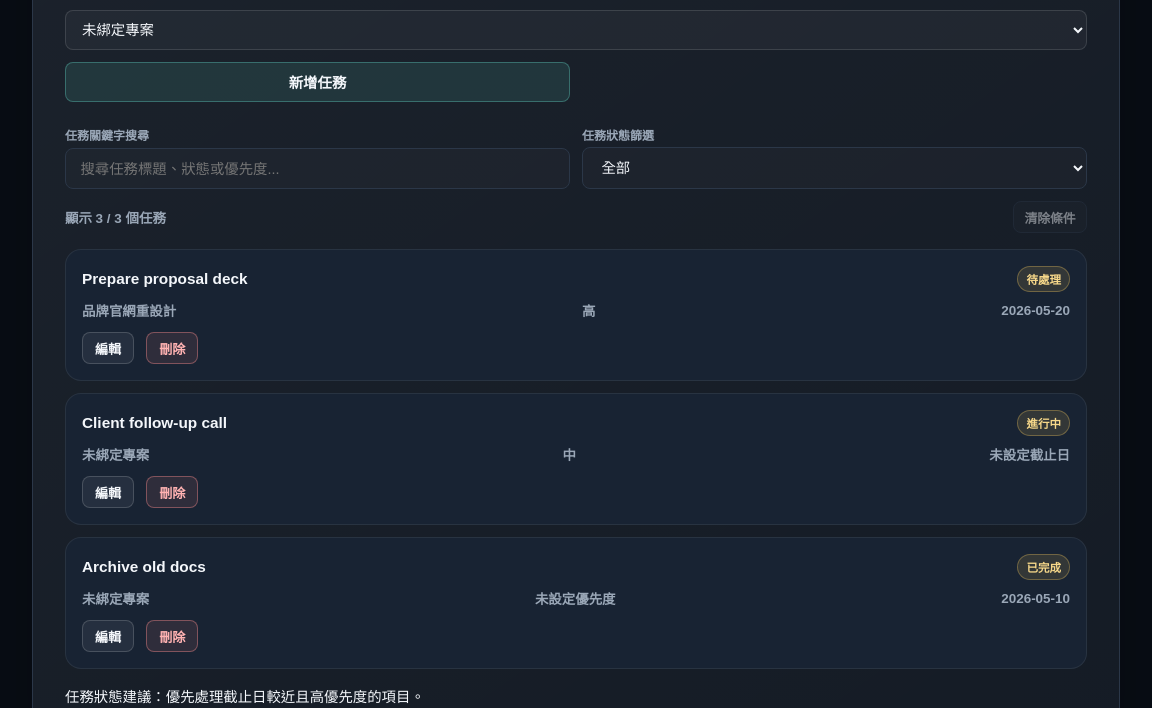
Test: TasksPage Supabase integration behaviors › updates the selected task only
(page scrolled)
Expected: the number of elements with test id "tasks-status-badge" is 3, [1018,266,1070,292]; [1018,410,1070,436]; [1018,554,1070,580]
Click the button with test id "tasks-edit-button" below "品牌官網重設計": {"x": 108, "y": 348} [82,332,134,364]
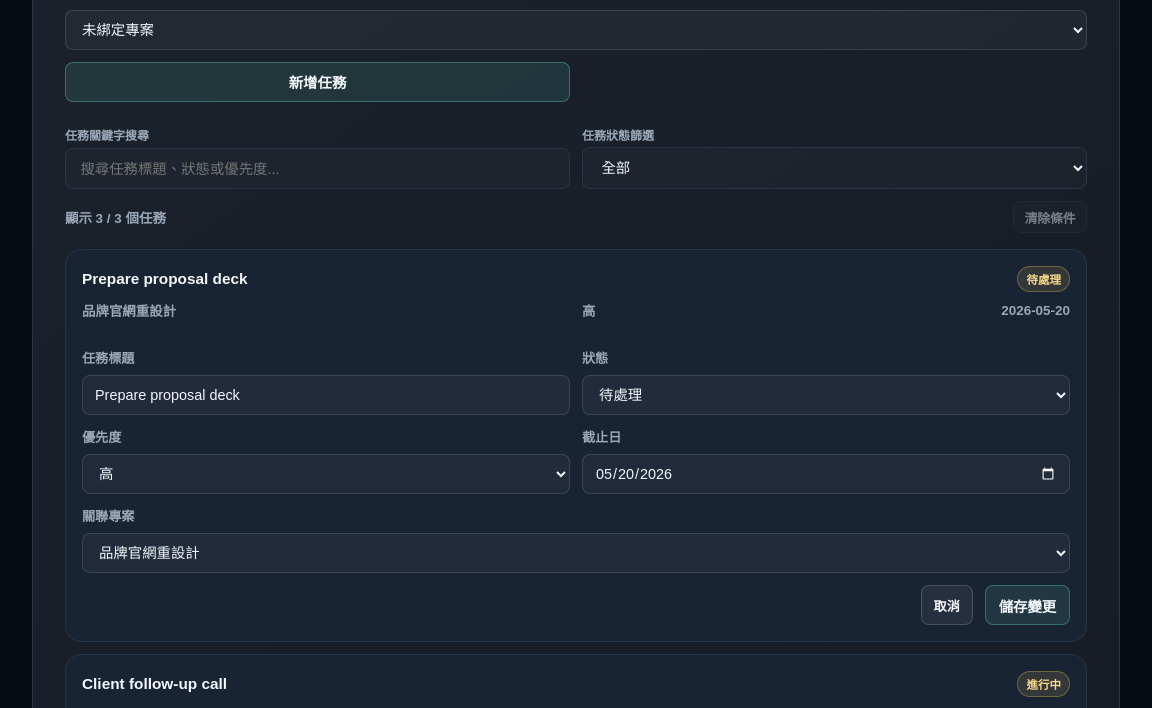
Now the field with id "tasks-edit-title-t-1" is shown
Replace the text in the field with id "tasks-edit-title-t-1" with "Prepare proposal deck v2": {"x": 326, "y": 395} [82,375,570,415]
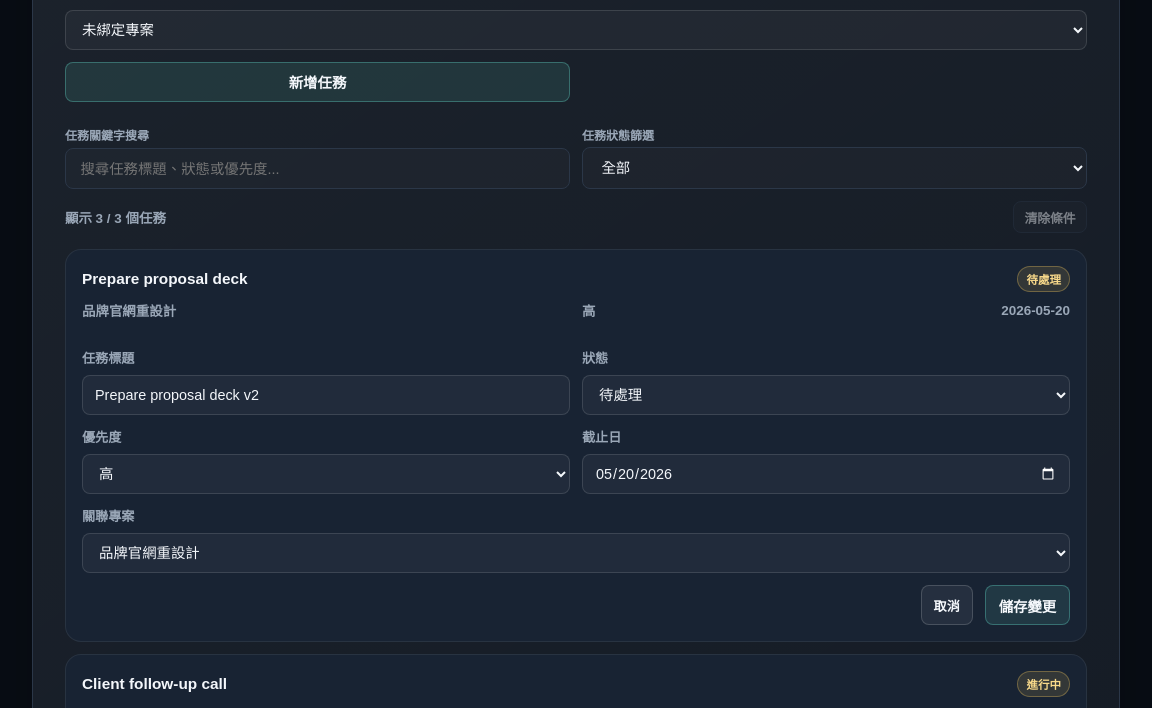
Now the dropdown with id "tasks-edit-status-t-1" is shown
Select "已完成" in the dropdown with id "tasks-edit-status-t-1": {"x": 826, "y": 395} [582,375,1070,415]
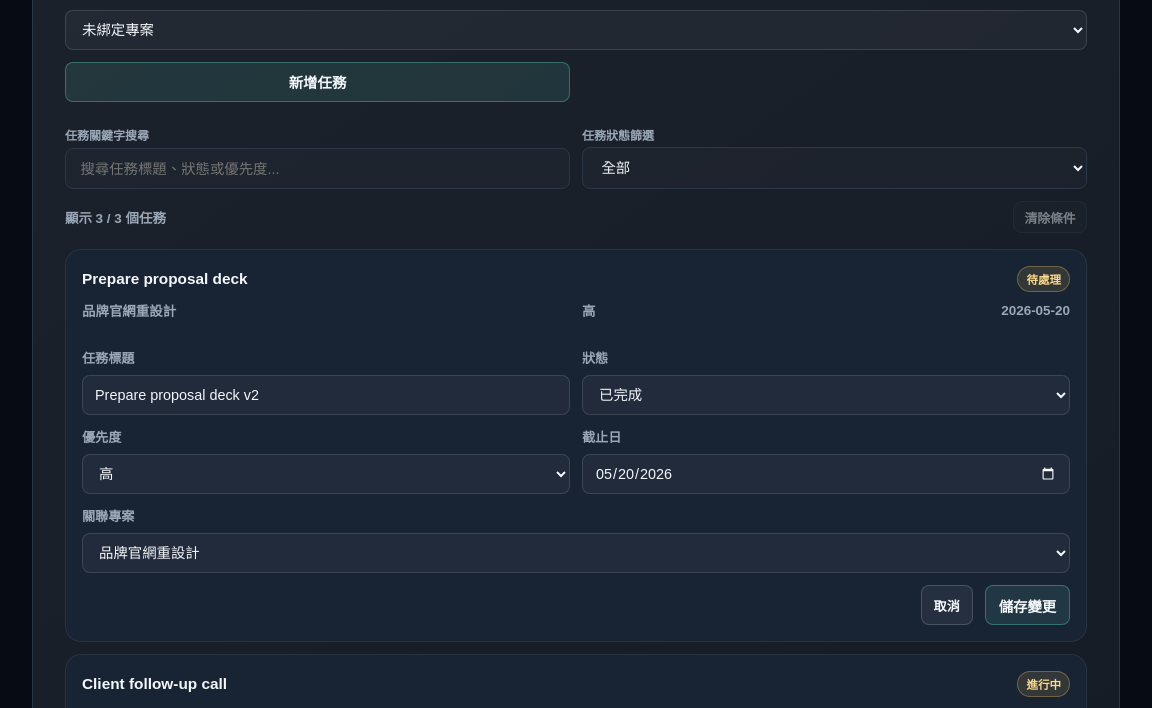
Now the dropdown with id "tasks-edit-priority-t-1" is shown
Select "緊急" in the dropdown with id "tasks-edit-priority-t-1": {"x": 326, "y": 474} [82,454,570,494]
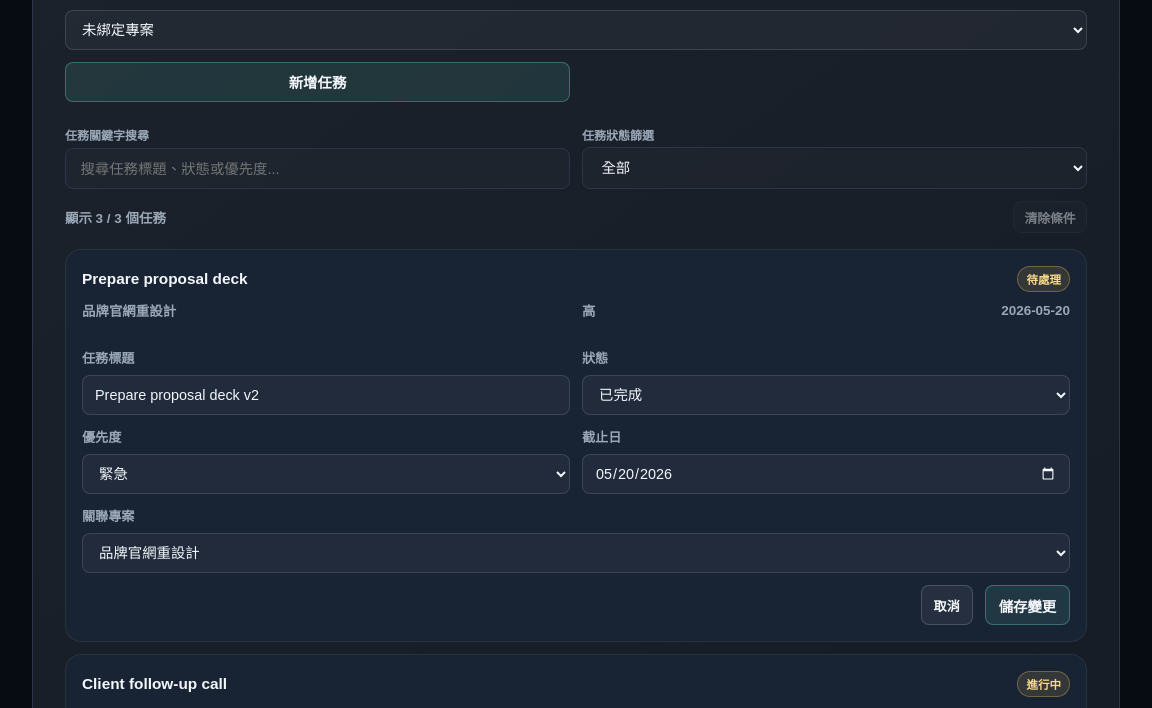
Now the date field with id "tasks-edit-due-date-t-1" is shown
In the date field with id "tasks-edit-due-date-t-1": {"x": 826, "y": 474} [582,454,1070,494], type "2026-05-25"
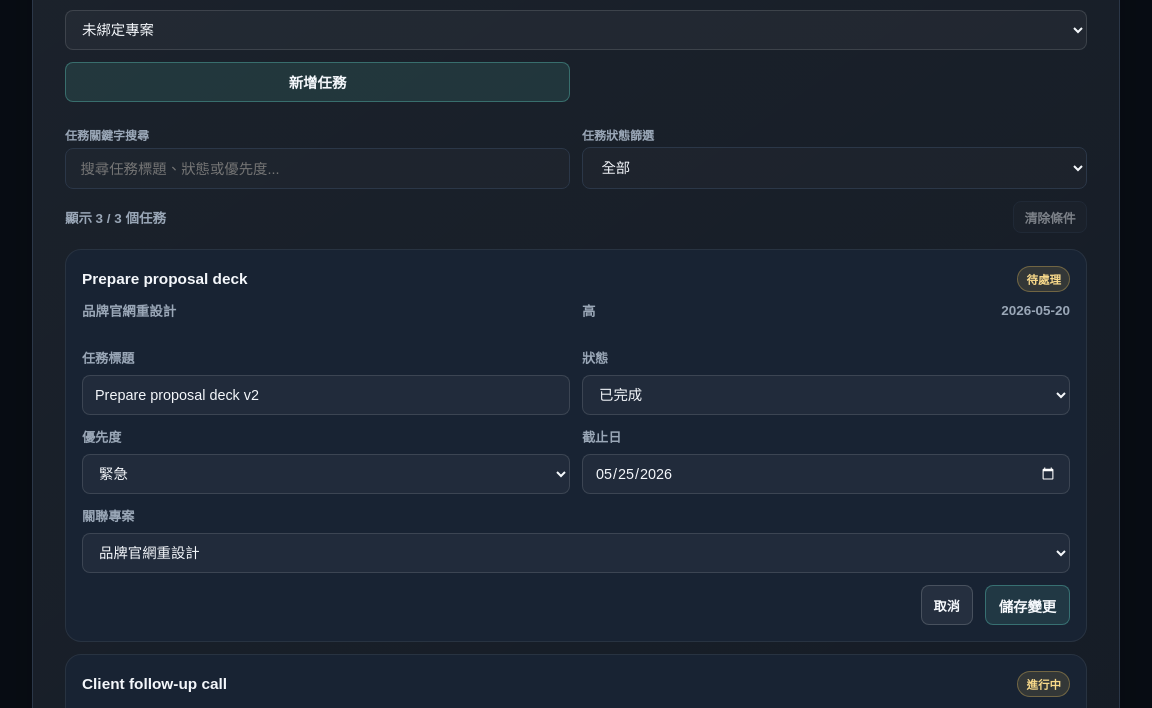
Now the dropdown with id "tasks-edit-project-id-t-1" is shown
Select "企業形象頁改版" in the dropdown with id "tasks-edit-project-id-t-1": {"x": 576, "y": 553} [82,533,1070,573]
Click the button with test id "tasks-save-edit-button": {"x": 1027, "y": 605} [985,585,1070,625]
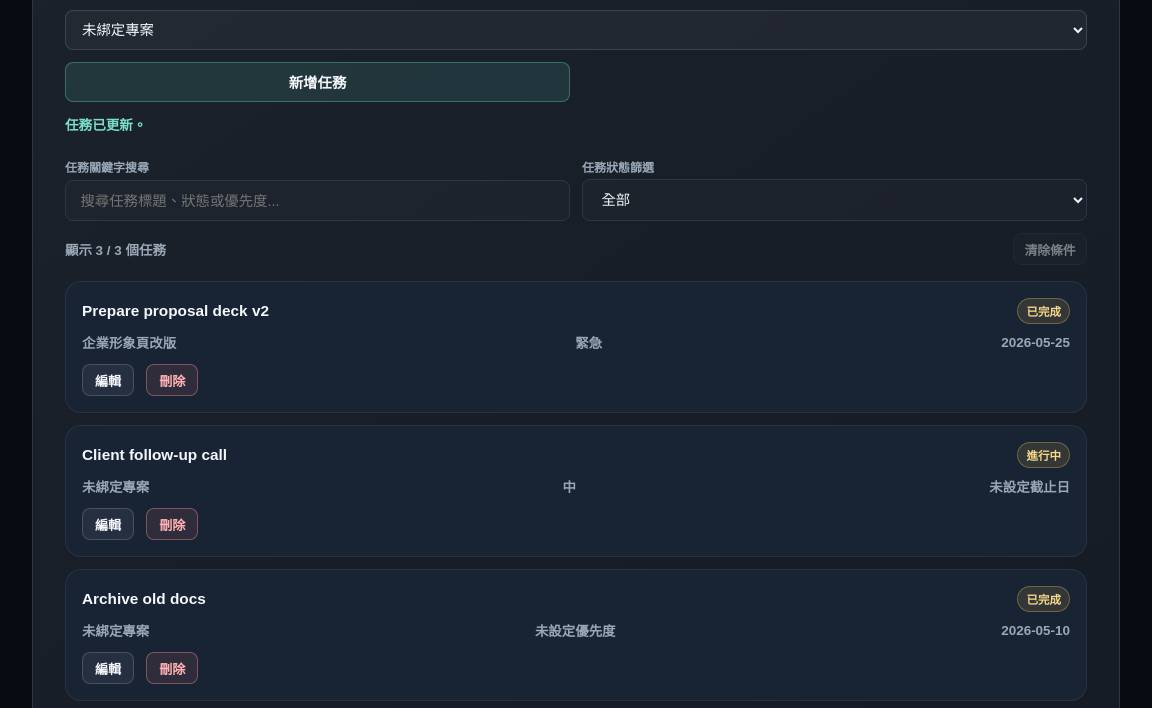
Expected: the heading "Client follow-up call" is shown, [82,446,227,464]
Now the text with test id "tasks-action-success" reads "任務已更新。", box [65,118,147,133]
Now the heading "Prepare proposal deck v2" is shown, box [82,302,269,320]
